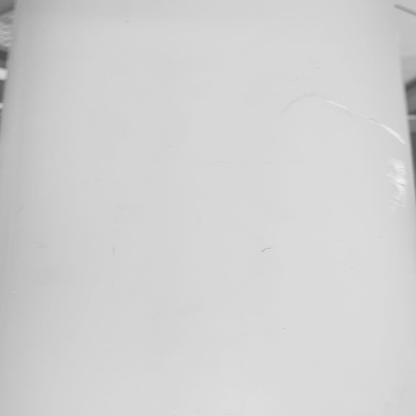sunshang: (331, 98, 411, 146), (391, 156, 412, 207)
